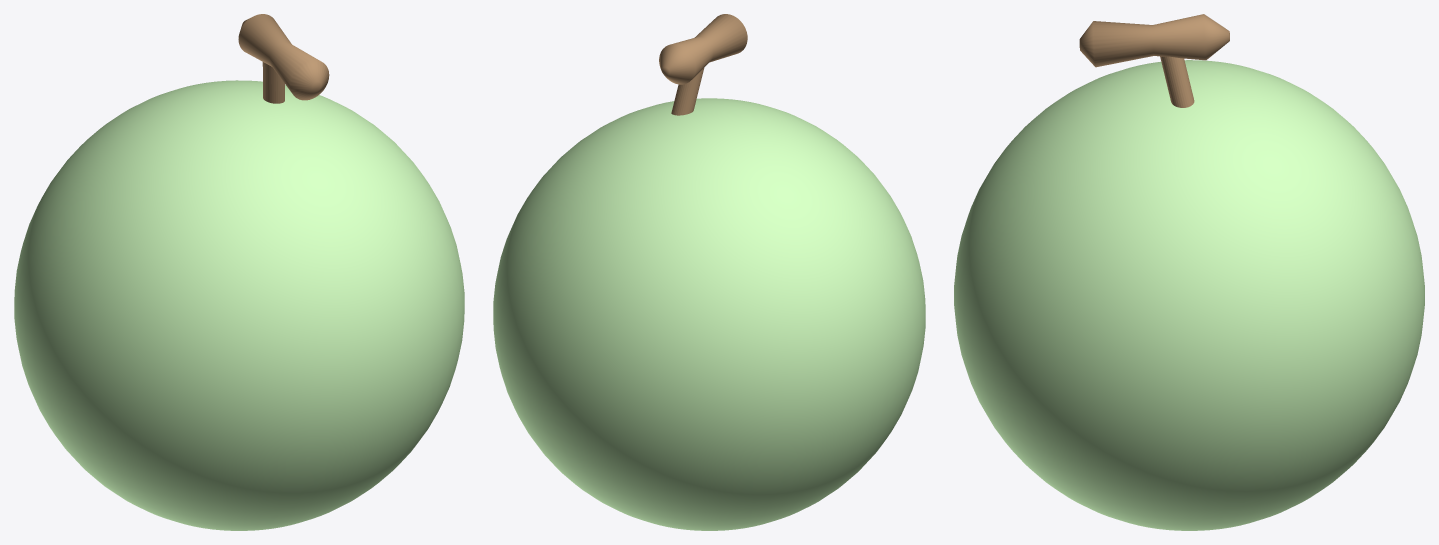
File: prefab-food.gltf
The picture shows the model from 3 angles, left to right: view 1: azimuth 30°, elevation 25°; view 2: azimuth 150°, elevation 25°; view 3: azimuth 270°, elevation 25°; orthographic projection. The views are drawn at different scales.
Parts seen in each view (by area): view 1: MeshInstance3D; view 2: MeshInstance3D; view 3: MeshInstance3D.
Part boxes in pixels (x1,y1,x2,y2): MeshInstance3D: (14, 14, 464, 530); MeshInstance3D: (493, 14, 925, 530); MeshInstance3D: (954, 14, 1424, 530).
Bounding box in the file's own units: 0.3995 × 0.474 × 0.3995.
